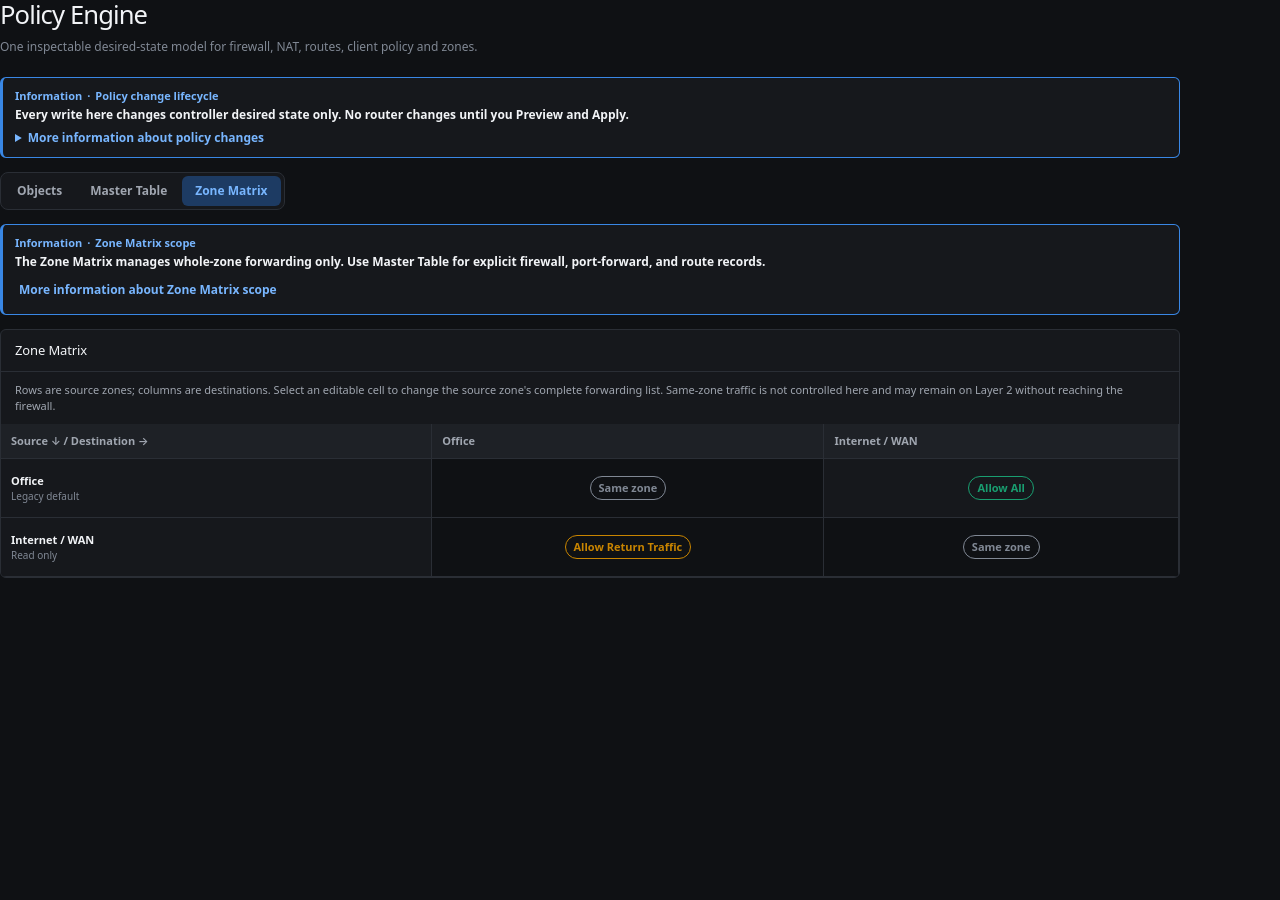
Test: Policy Engine › shows the effective legacy WAN default and does not offer a meaningless reset
This screenshot has width=1280, height=900.
Check: the element named "Internet / WAN to Office: Allow Return Traffic. Read only" is shown, box [432,518,823,576]
Check: the text "Legacy default" is shown, box [11,488,79,502]
Click the button with aria-label "Office to Internet / WAN: Allow All. Edit Office policy": (1001,488) [824,459,1178,517]
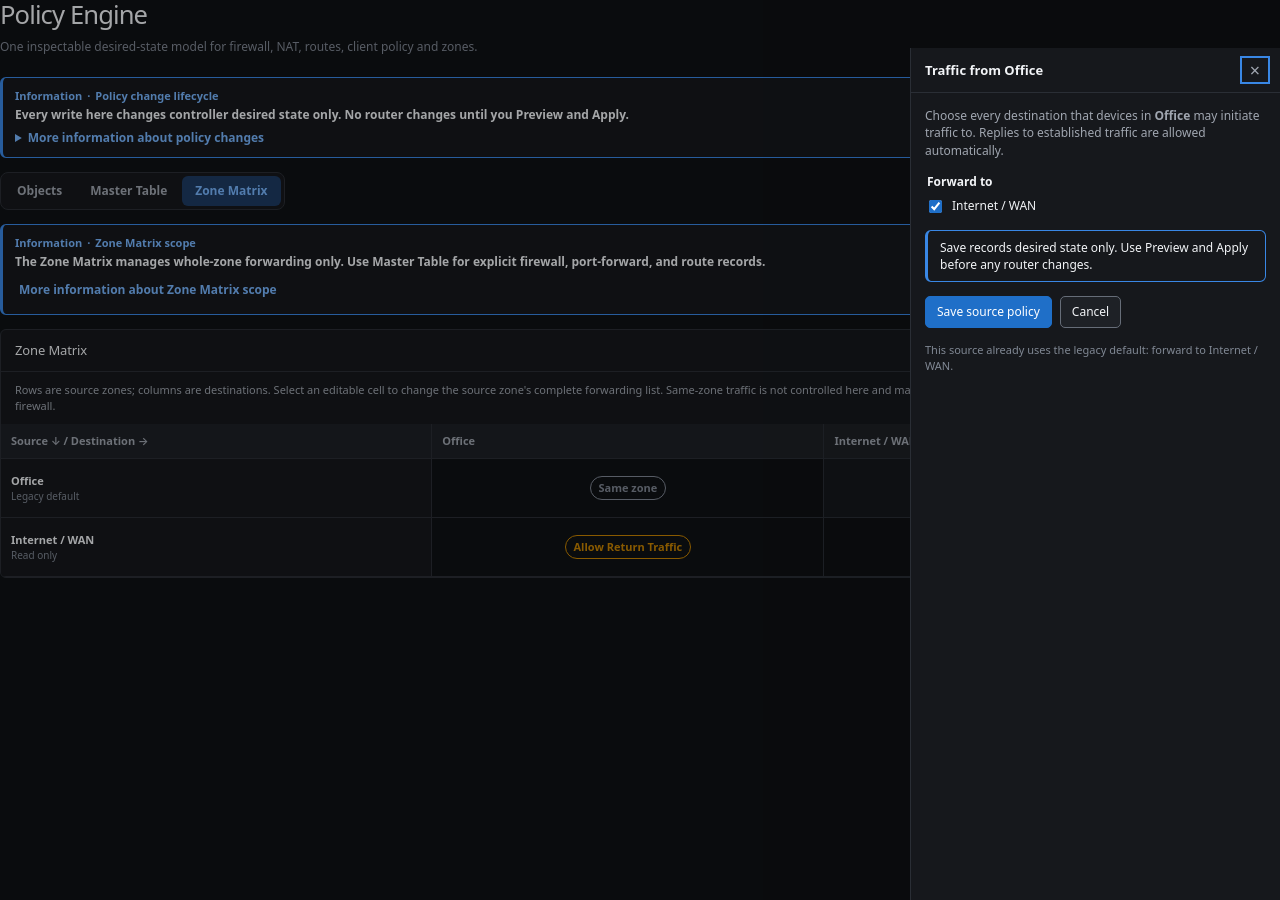
Check: the text "already uses the legacy default" is shown, box [925,342,1209,357]
